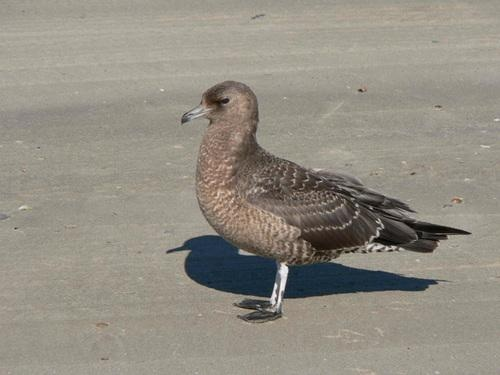bird: (179, 76, 466, 310)
